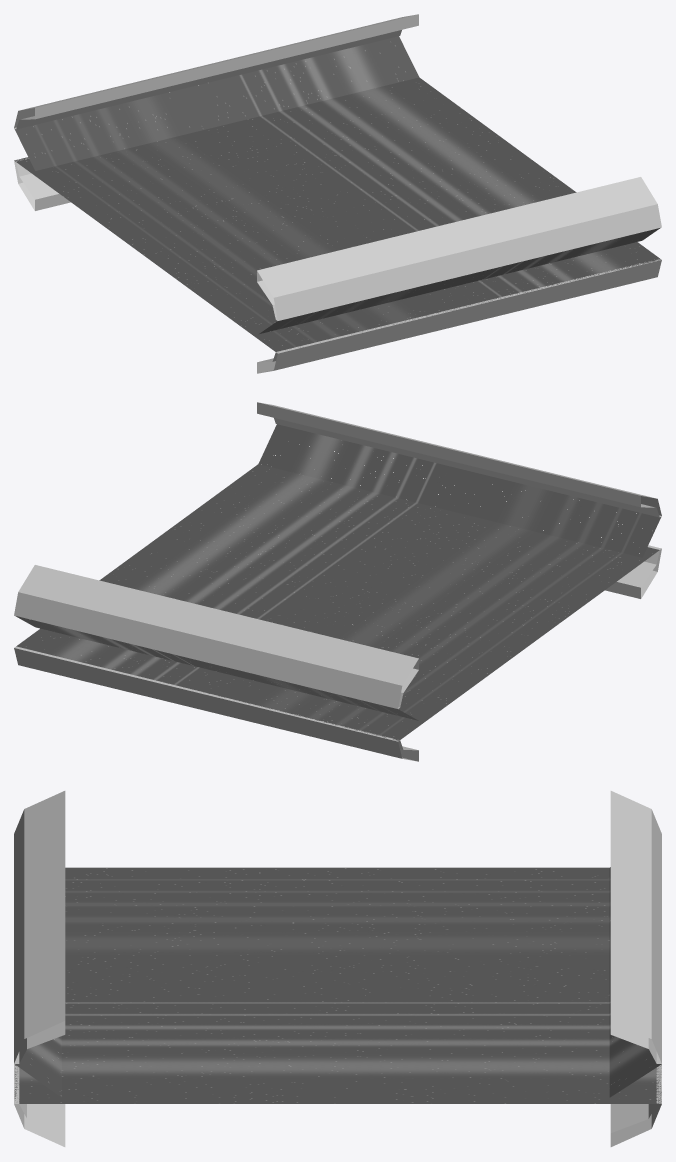
The model's file is Straight_Road.fbx.
3 views of the same model, one above another, from view 1: azimuth 30°, elevation 25°; view 2: azimuth 150°, elevation 25°; view 3: azimuth 270°, elevation 25° (orthographic). The views are drawn at different scales.
Parts seen in each view (by area): view 1: Side.000, Side.002; view 2: Side.000, Side.002; view 3: Side.000, Side.002.
Boxes of the visible parts, x1=… form: Side.000: x1=14, y1=36, x2=660, y2=351; Side.002: x1=14, y1=14, x2=661, y2=373; Side.000: x1=15, y1=424, x2=661, y2=740; Side.002: x1=14, y1=402, x2=661, y2=761; Side.000: x1=14, y1=867, x2=661, y2=1103; Side.002: x1=14, y1=791, x2=661, y2=1146.
Size of the model in its own units: 10 by 2.57 by 11.9.
